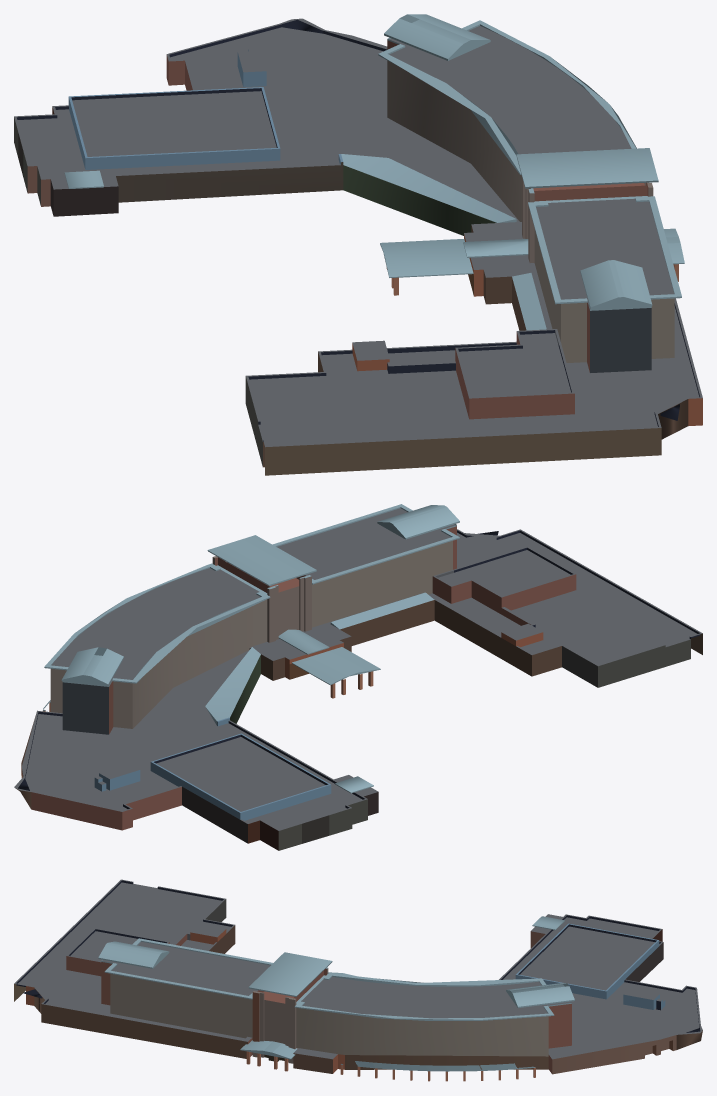
The model's file is the-chattanoogan-hotel.glb.
3 renders of one model, top to bottom at view 1: azimuth 30°, elevation 25°; view 2: azimuth 150°, elevation 25°; view 3: azimuth 270°, elevation 25°, orthographic. The views are drawn at different scales.
Visible parts, largest first — view 1: LOD0; view 2: LOD0; view 3: LOD0.
Boxes of the visible parts, box(x1,y1,x2,y2) form: LOD0: box(14, 14, 702, 475); LOD0: box(14, 504, 702, 850); LOD0: box(14, 879, 702, 1081).
Size of what is drawn, in the model's own units: 121 by 21.96 by 191.
3 materials, 3 textured.
